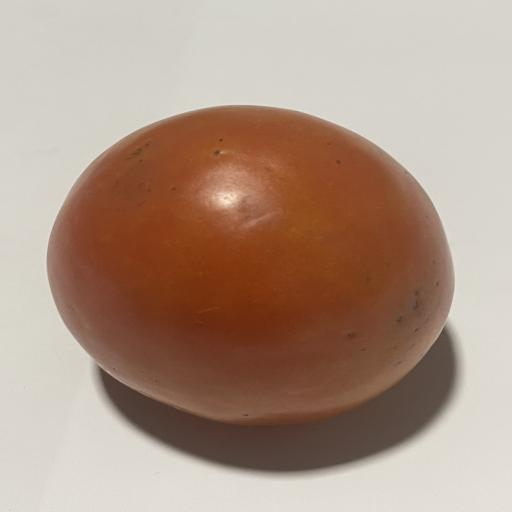unripe: (48, 106, 454, 424)
